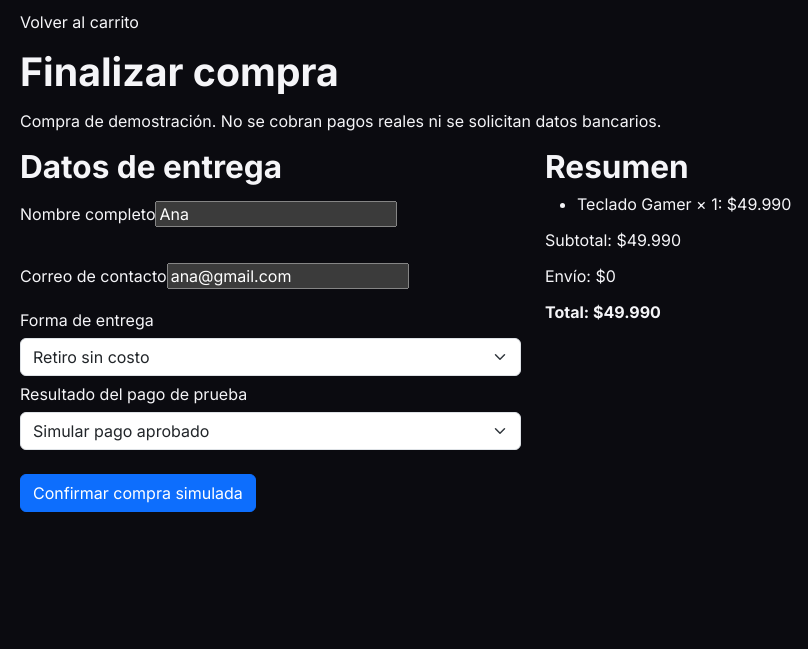
it: Página Checkout › precarga el perfil y exige dirección para despacho
Expected: the field labelled "Nombre completo" holds "Ana", 156,201 -> 398,227
Select "Despacho a domicilio — $3.990" in the dropdown labelled "Forma de entrega" at (270, 357), box 20,338 -> 521,376
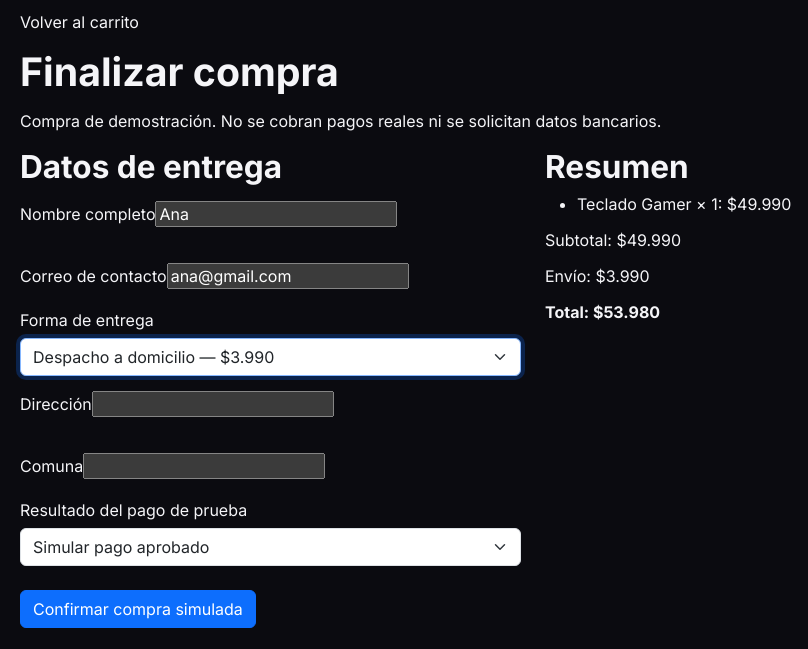
Now the text "Total: $53.980" is shown, box 545,302 -> 660,322
Click the button "Confirmar compra simulada" at (138, 609), box 20,590 -> 256,628
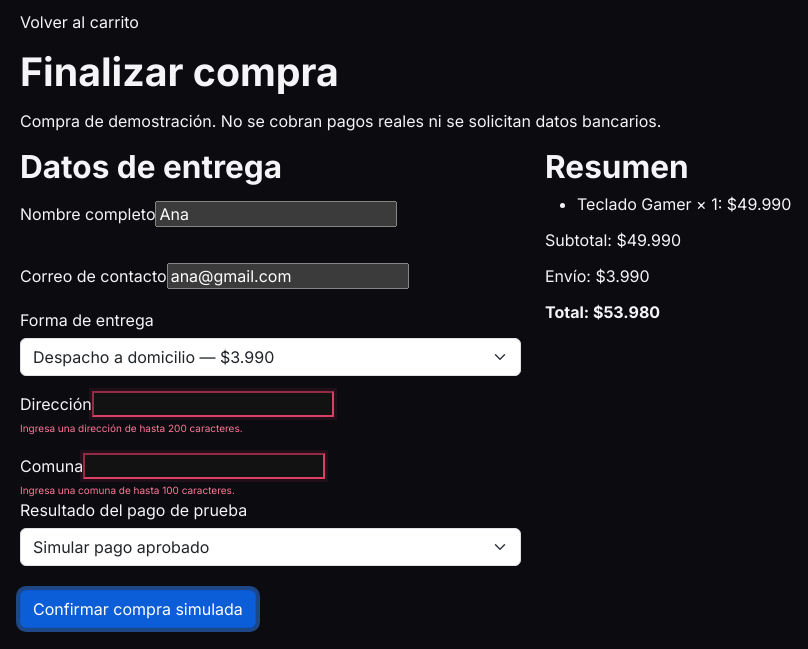
Now the text "Ingresa una dirección de hasta 200 caracteres." is shown, box 20,422 -> 243,434
